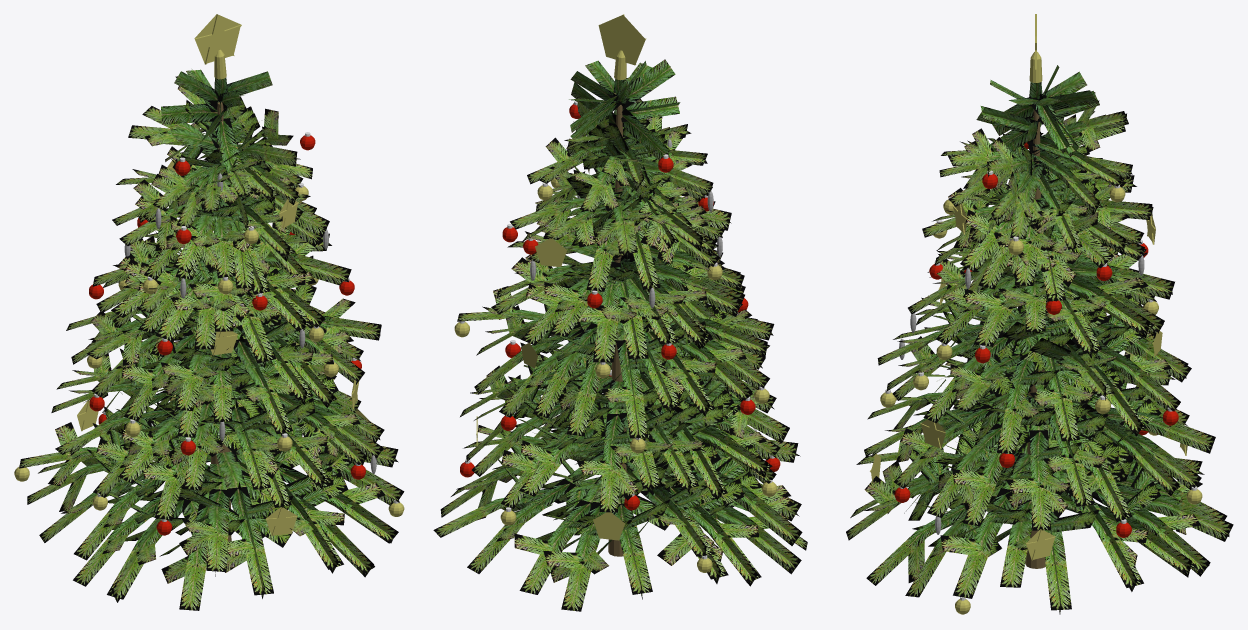
File: christmas_tree.gltf
The picture shows the model from 3 angles, left to right: view 1: azimuth 30°, elevation 25°; view 2: azimuth 150°, elevation 25°; view 3: azimuth 270°, elevation 25°; orthographic projection. The views are drawn at different scales.
Visible parts, largest first — view 1: leaves_Plane.085, star.001_Circle.001, star.003_Circle.003; view 2: leaves_Plane.085, star.001_Circle.001, Cylinder, star.006_Circle.006, star.007_Circle.007; view 3: leaves_Plane.085, Cylinder, star.004_Circle.004.
Part boxes in pixels (left/top/right/bottom): leaves_Plane.085: left=19, top=69, right=404, bottom=610; star.001_Circle.001: left=194, top=14, right=241, bottom=79; star.003_Circle.003: left=265, top=507, right=297, bottom=535; leaves_Plane.085: left=433, top=59, right=807, bottom=611; star.001_Circle.001: left=598, top=14, right=646, bottom=80; Cylinder: left=608, top=105, right=626, bottom=556; star.006_Circle.006: left=535, top=237, right=567, bottom=267; star.007_Circle.007: left=593, top=512, right=625, bottom=540; leaves_Plane.085: left=846, top=65, right=1233, bottom=614; Cylinder: left=1025, top=109, right=1045, bottom=568; star.004_Circle.004: left=1026, top=529, right=1055, bottom=560.
Bounding box in the file's own units: 1.31 × 2.03 × 1.32.
Materials: 6 (1 with a texture image).
